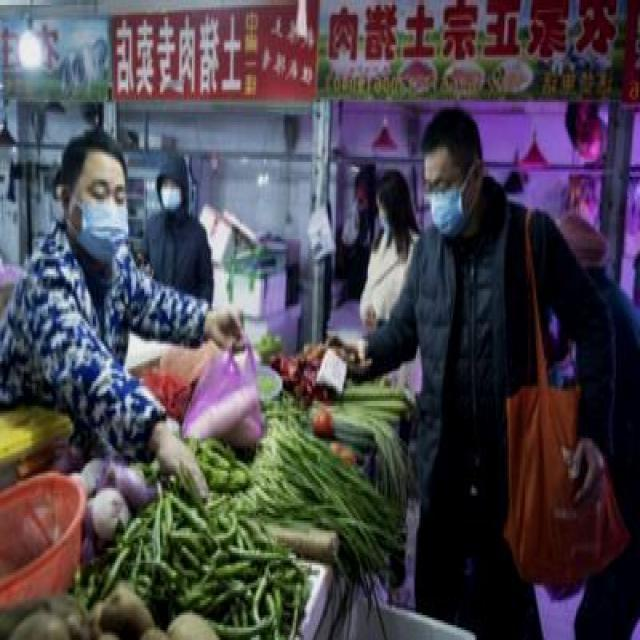hairnet: (378, 172, 407, 232)
